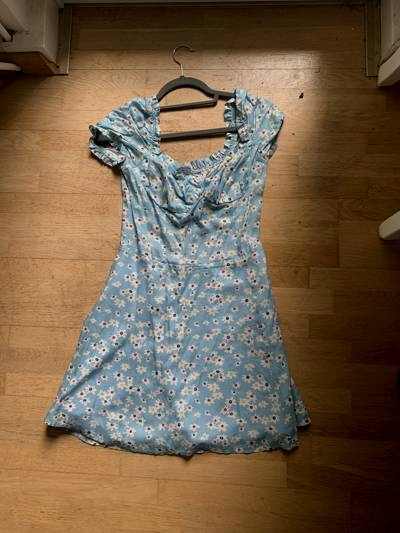Dress: (9, 56, 371, 482)
